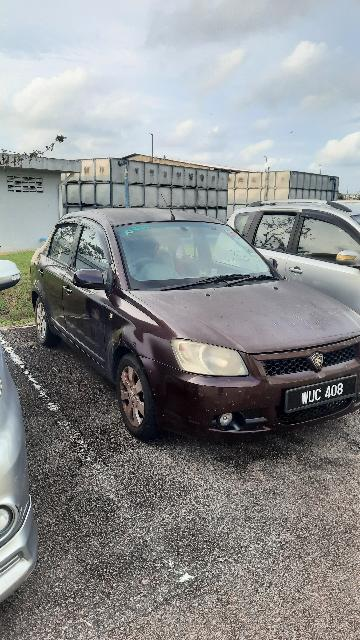License_Plate: (280, 376, 360, 416)
car: (32, 209, 360, 450), (217, 203, 360, 331)
